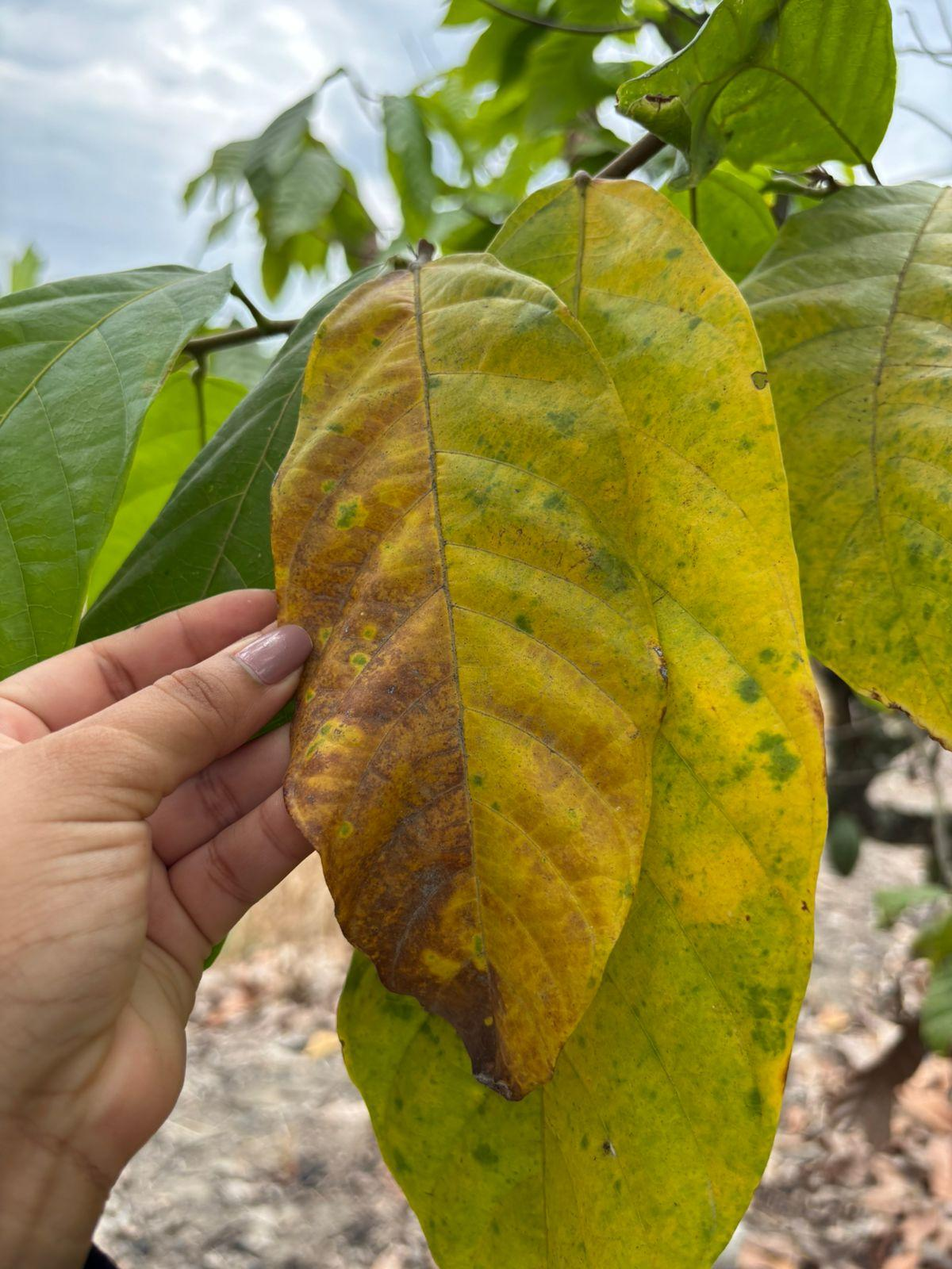deficienciia_fosforo: (272, 255, 665, 1098)
